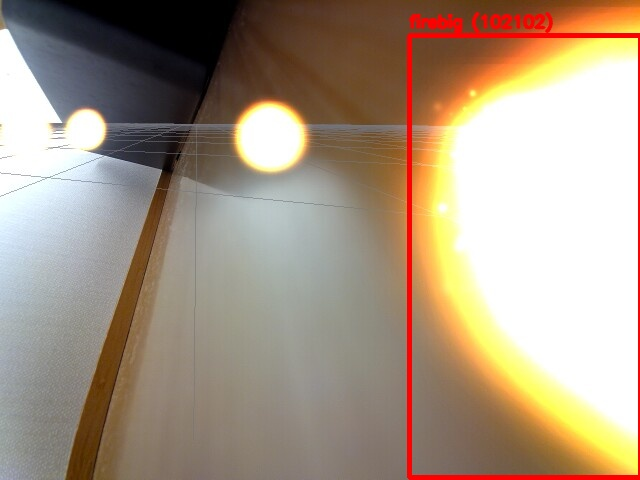firebig: (409, 35, 640, 477)
